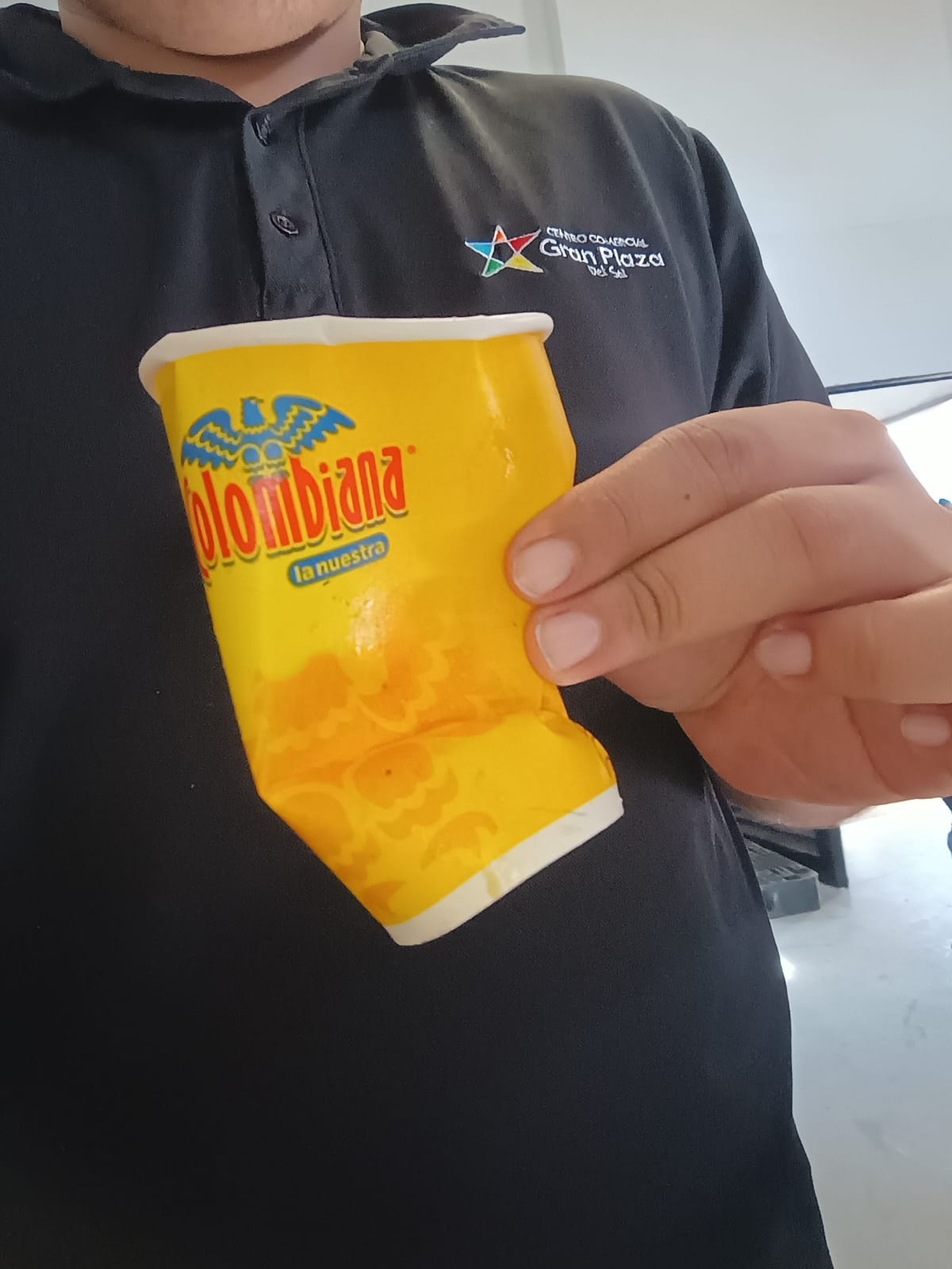Carton: (142, 311, 627, 943)
